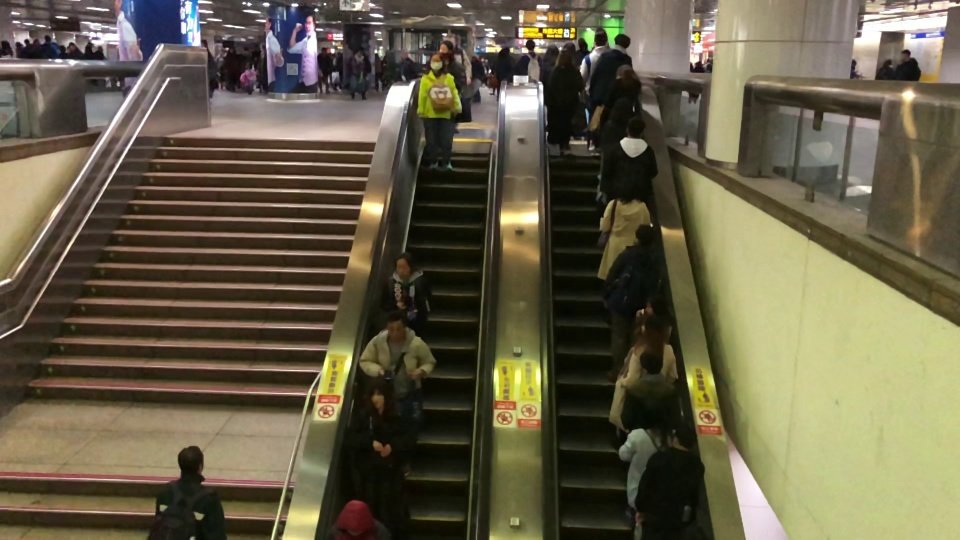person_head: (336, 498, 375, 535), (650, 390, 682, 432), (637, 306, 670, 342), (382, 307, 408, 341), (176, 445, 204, 475), (365, 386, 387, 412), (673, 427, 694, 452), (393, 253, 413, 277), (619, 183, 643, 203), (627, 116, 643, 140), (635, 224, 655, 242), (614, 32, 631, 50), (543, 43, 557, 64), (592, 32, 609, 48), (429, 53, 443, 71), (439, 39, 454, 55), (615, 65, 631, 80), (557, 53, 572, 67), (522, 40, 536, 53), (899, 49, 911, 62), (399, 48, 411, 60), (562, 42, 575, 53), (445, 36, 457, 47), (199, 37, 209, 49), (500, 47, 510, 59), (68, 42, 79, 52), (882, 58, 892, 69), (354, 48, 364, 57), (470, 54, 478, 64), (850, 59, 857, 70), (1, 40, 10, 48), (44, 34, 51, 43), (318, 48, 327, 55), (693, 61, 702, 68), (258, 44, 265, 52), (706, 58, 713, 63)
person_vbox: (357, 306, 437, 472), (611, 390, 697, 536), (341, 387, 417, 534), (630, 425, 720, 540), (603, 224, 665, 379), (615, 306, 680, 452), (595, 116, 661, 239), (594, 183, 651, 321), (146, 445, 229, 539), (590, 65, 640, 198), (588, 31, 634, 156), (415, 53, 462, 172), (577, 31, 611, 149), (384, 253, 433, 333), (549, 40, 583, 136), (545, 54, 576, 156), (438, 39, 461, 159), (328, 497, 392, 540), (539, 42, 559, 130), (346, 47, 373, 101), (197, 37, 219, 102), (443, 35, 472, 83), (516, 39, 543, 83), (893, 49, 923, 86), (494, 47, 513, 100), (251, 44, 270, 94), (470, 54, 487, 103), (394, 47, 417, 81), (316, 47, 332, 95), (686, 61, 701, 106), (874, 58, 894, 84), (40, 35, 58, 60), (65, 42, 84, 60), (0, 39, 14, 57), (849, 59, 860, 79), (702, 56, 714, 74)
